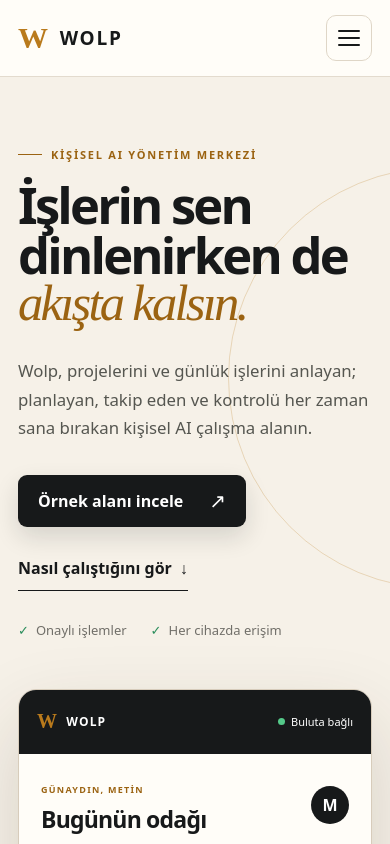
Wolp demo sitesi › menü bağlantısı seçildiğinde mobil menüyü kapatır
Click the button named "Menüyü aç": (349, 38) [326, 15, 372, 61]
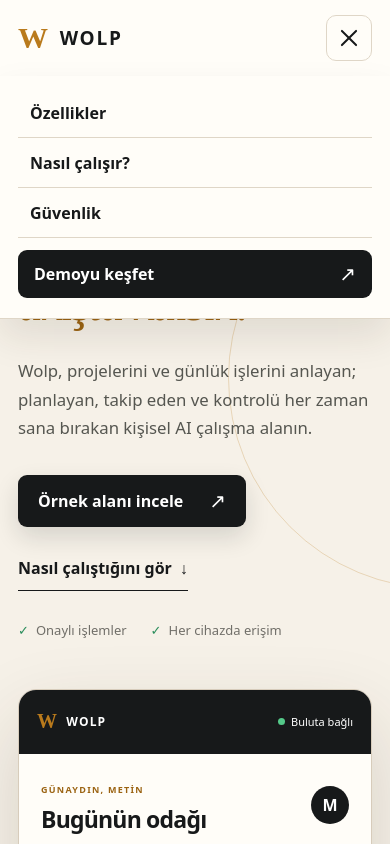
Click the link "Özellikler": (68, 112) [18, 88, 372, 138]
(page scrolled)
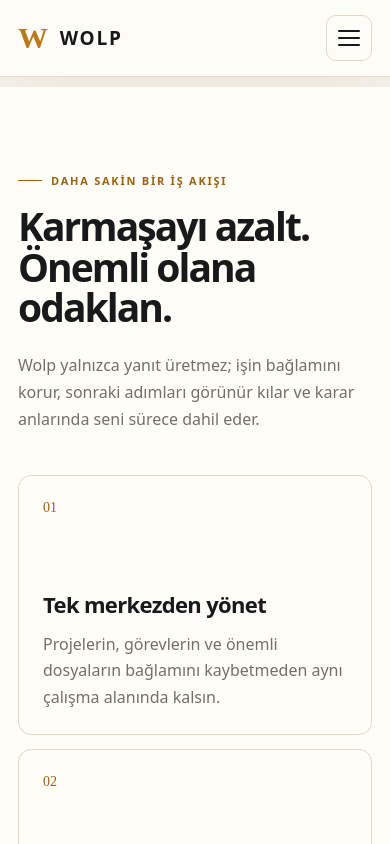
Now the button named "Menüyü aç" is collapsed, box [326, 15, 372, 61]
